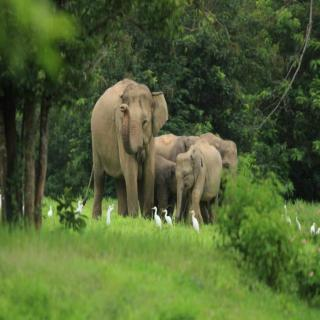Elephant: (88, 74, 169, 226), (173, 136, 225, 229)
